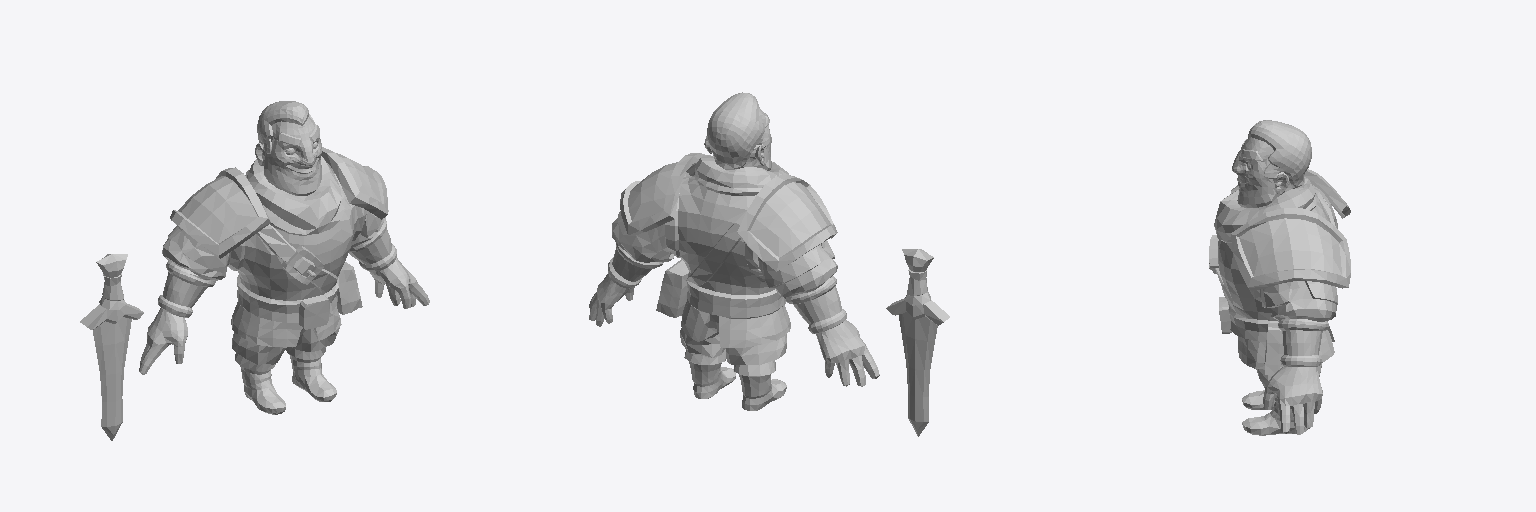
The model's file is Knight.obj.
3 renders of one model, left to right at view 1: azimuth 30°, elevation 25°; view 2: azimuth 150°, elevation 25°; view 3: azimuth 270°, elevation 25°, orthographic.
Visible parts, largest first — view 1: body; view 2: body; view 3: body.
Boxes of the visible parts, <box> form: body: <box>80,101,429,440</box>; body: <box>589,92,949,436</box>; body: <box>1209,120,1350,435</box>.
Bounding box in the file's own units: 206 × 166 × 72.39.